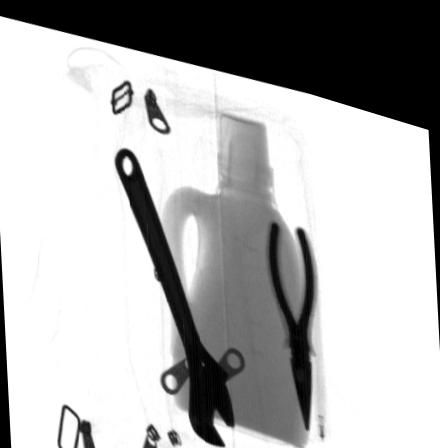Pliers: (267, 204, 314, 415)
Wrench: (115, 137, 234, 436)
